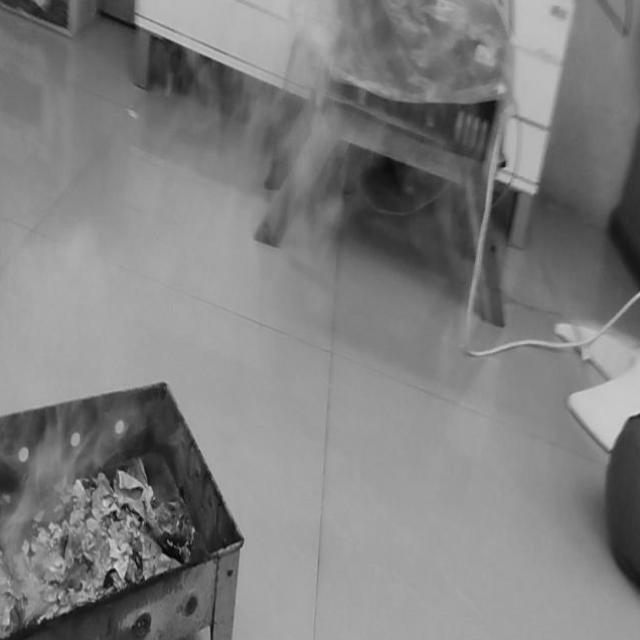fire: (272, 0, 370, 263), (9, 413, 110, 542)
